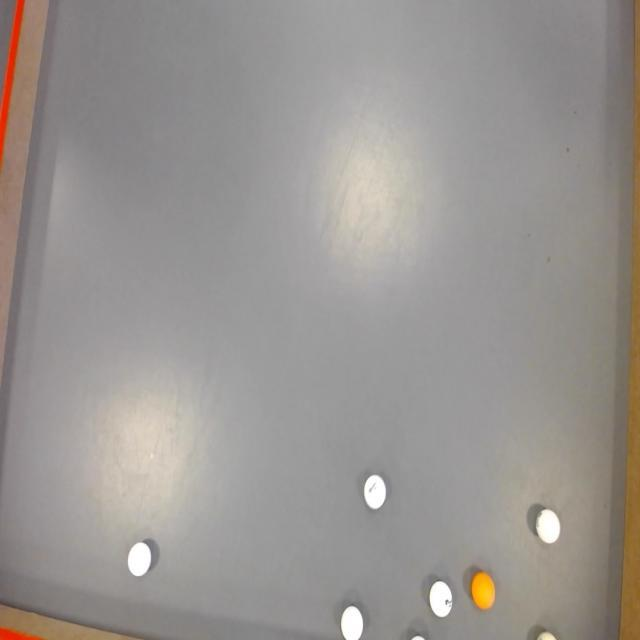orange: (470, 569, 498, 611)
white: (427, 572, 458, 621), (534, 505, 564, 550), (362, 473, 388, 511), (128, 542, 153, 579), (340, 604, 364, 640)
